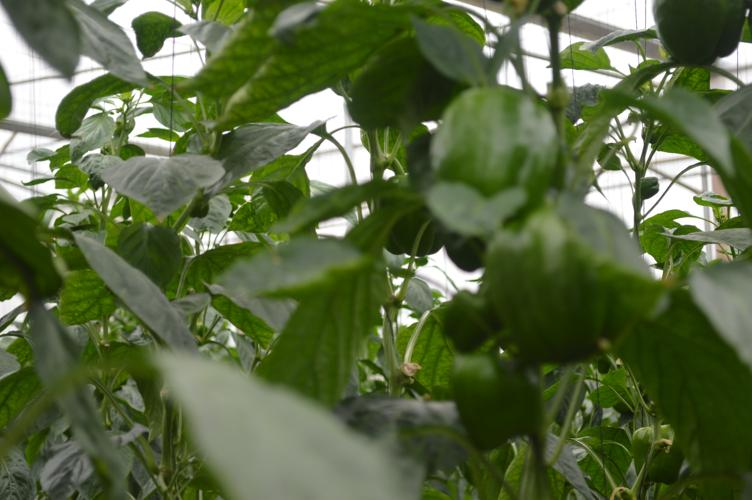BellPepper: (491, 209, 650, 362), (419, 88, 570, 208), (447, 347, 559, 453)
